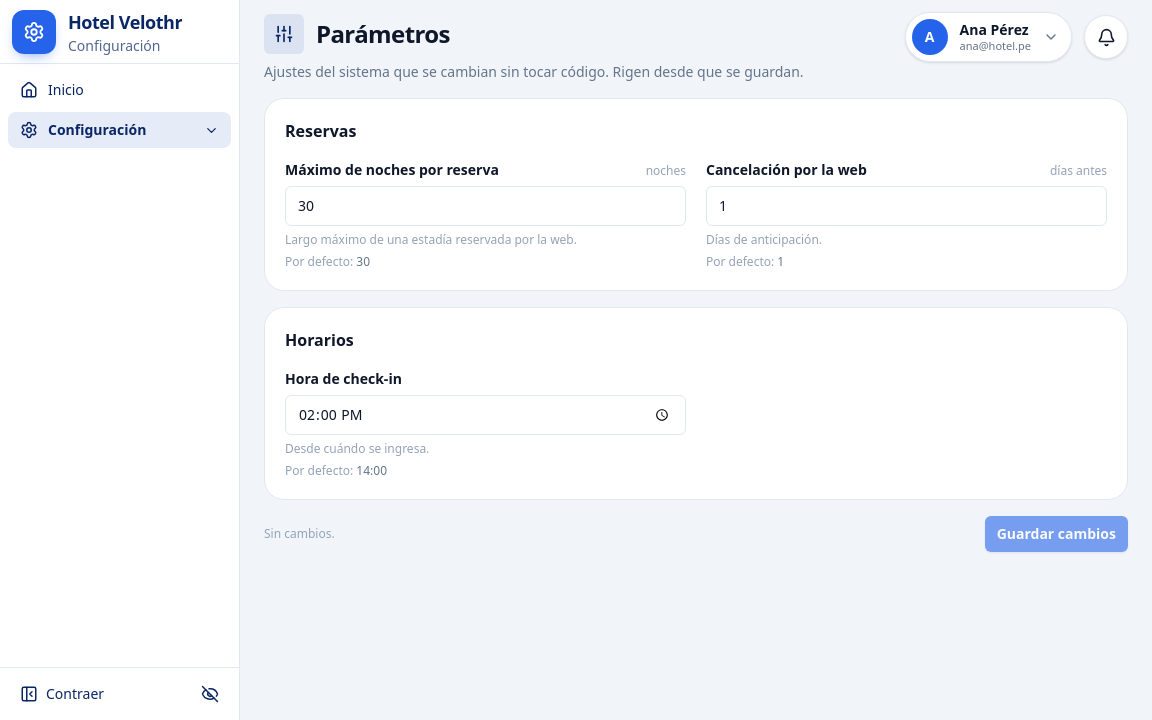
Test case: Parámetros › guarda solo lo que se cambió
Expected: the button "Guardar cambios" is disabled, [985,516,1128,552]
Replace the text in the field labelled "Máximo de noches por reserva" with "45" at [486, 206], box [298,196,673,216]
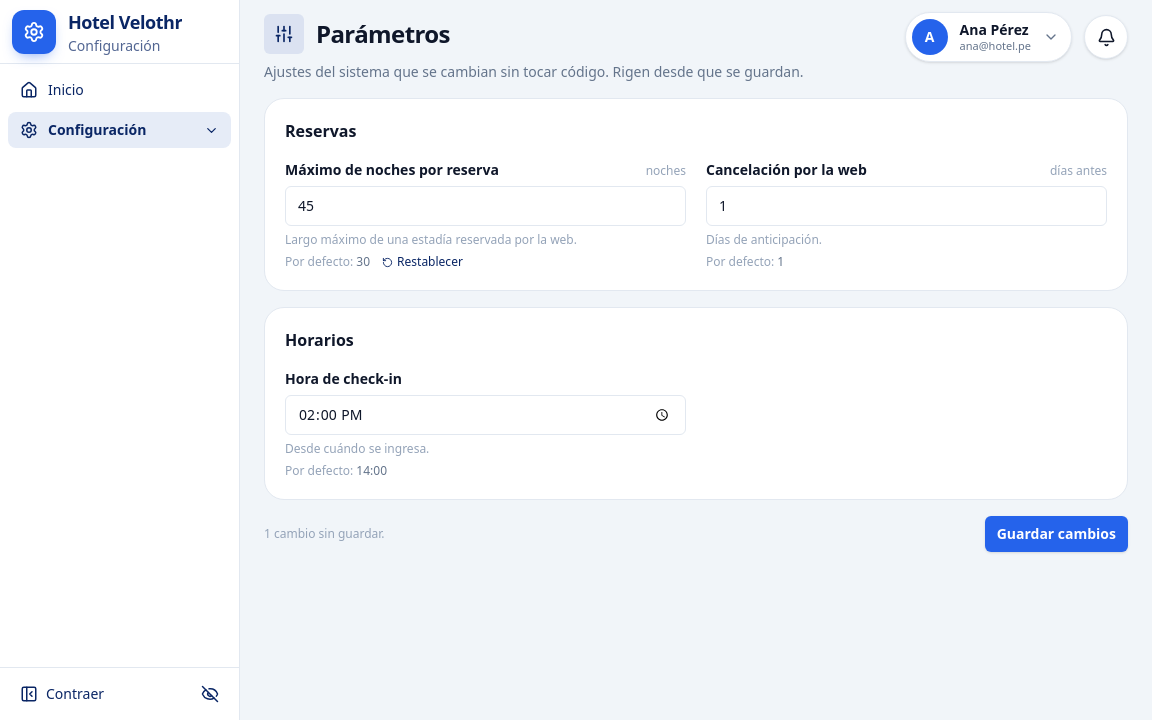
Now the text "1 cambio sin guardar." is shown, box [264,526,384,542]
Click the button "Guardar cambios".
click(1056, 534)  # box [985,516,1128,552]
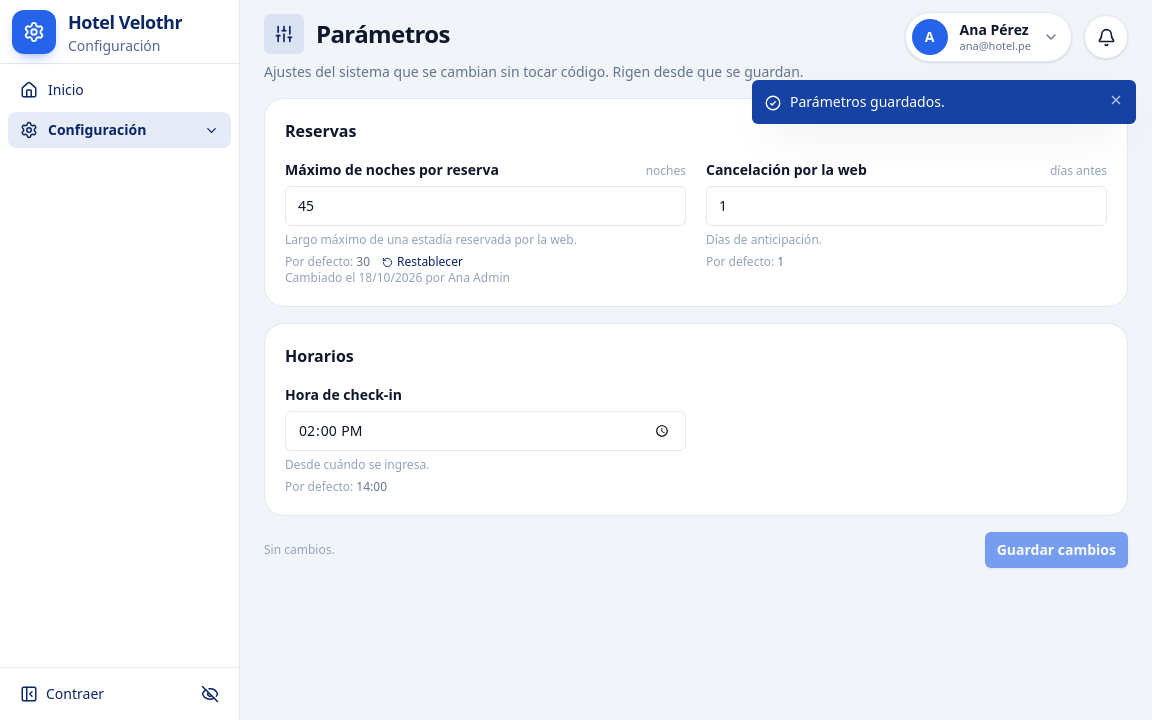
Now the text "Sin cambios." is shown, box [264,542,335,558]
